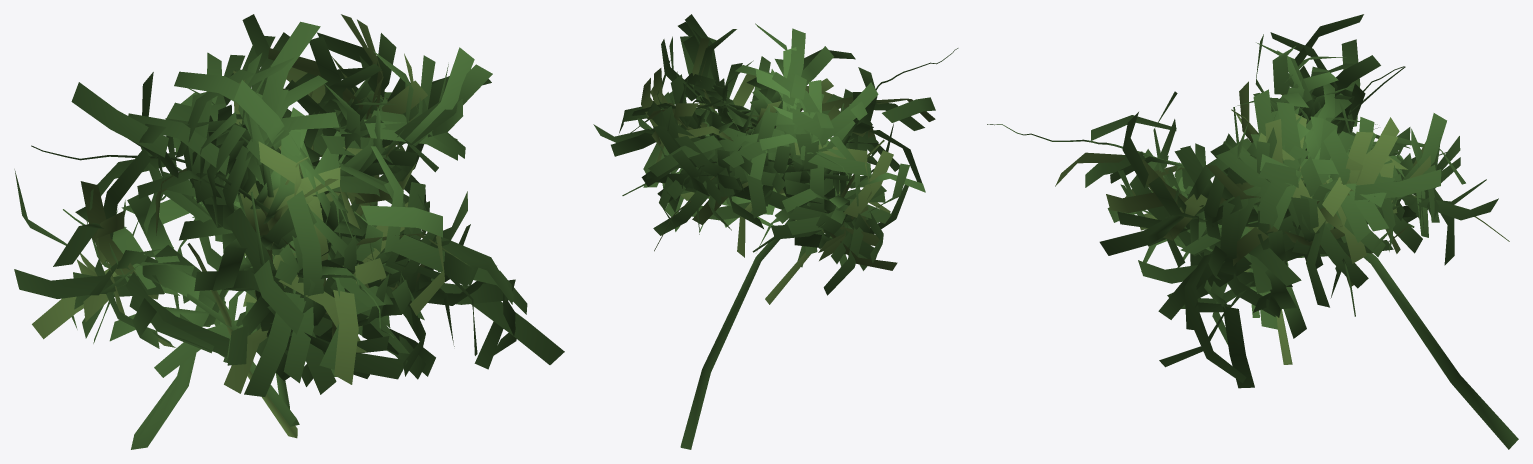
The model's file is arbusto_3.glb.
3 renders of one model, left to right at view 1: azimuth 30°, elevation 25°; view 2: azimuth 150°, elevation 25°; view 3: azimuth 270°, elevation 25°, orthographic. The views are drawn at different scales.
Parts seen in each view (by area): view 1: arbusto_3; view 2: arbusto_3; view 3: arbusto_3.
Boxes of the visible parts, x1,y1,x2,y2 form: arbusto_3: (14,14,564,449); arbusto_3: (593,14,958,449); arbusto_3: (987,14,1518,449).
Size of the model in its own units: 0.8961 by 0.9925 by 1.16.
